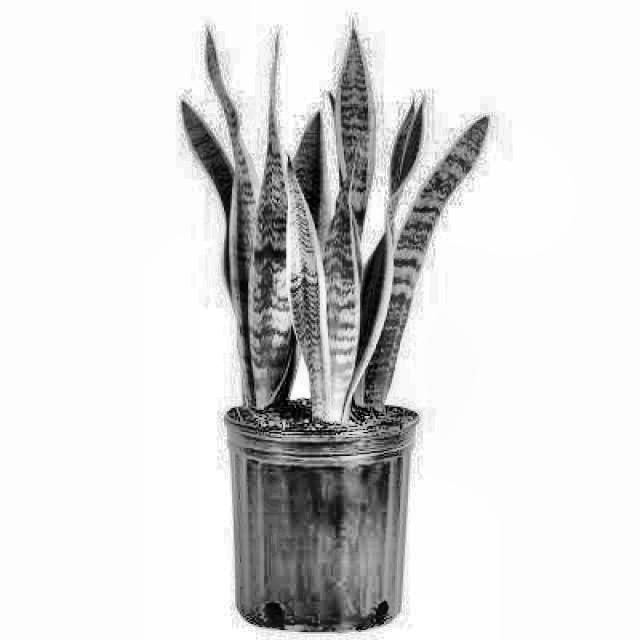plants: (148, 16, 498, 632)
